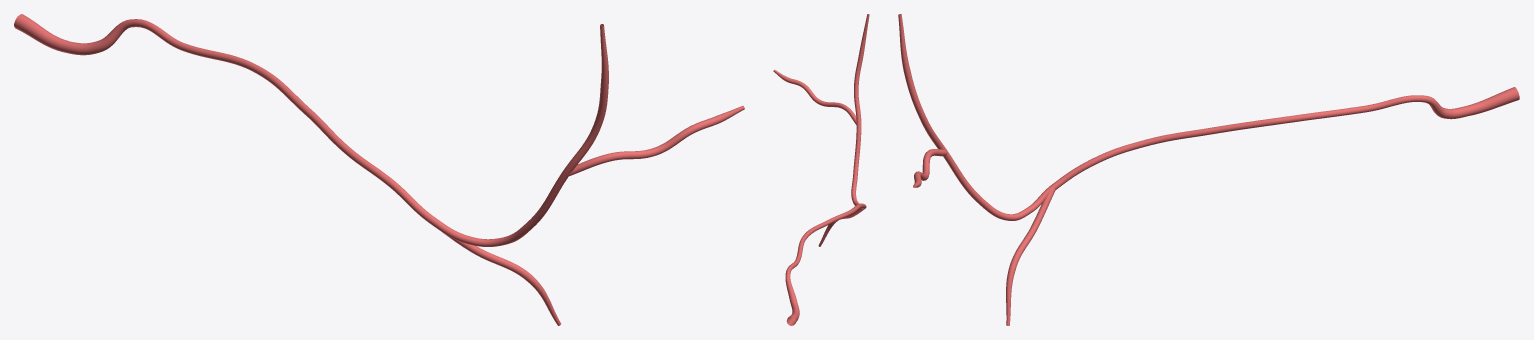
File: Supratrochlear_artery.r_BezierCurve.363.glb
The picture shows the model from 3 angles, left to right: view 1: azimuth 30°, elevation 25°; view 2: azimuth 150°, elevation 25°; view 3: azimuth 270°, elevation 25°; orthographic projection. The views are drawn at different scales.
Visible parts, largest first — view 1: Supratrochlear_artery.r_BezierCurve.363; view 2: Supratrochlear_artery.r_BezierCurve.363; view 3: Supratrochlear_artery.r_BezierCurve.363.
Part boxes in pixels (x1,y1,x2,y2): Supratrochlear_artery.r_BezierCurve.363: (14,14,744,325); Supratrochlear_artery.r_BezierCurve.363: (773,14,869,325); Supratrochlear_artery.r_BezierCurve.363: (898,14,1519,325).
Size of the model in its own units: 0.0221 by 0.0193 by 0.0357.
